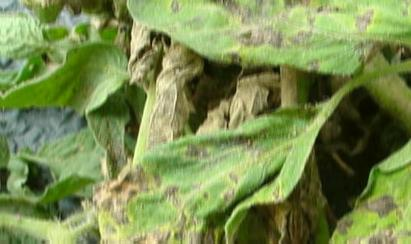Tomato leaf late blight: (101, 102, 323, 244), (278, 65, 411, 244), (115, 0, 411, 76)
